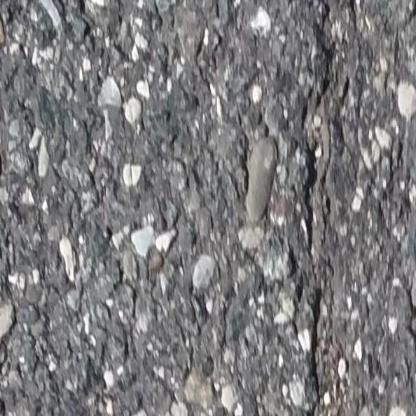Cracks: (299, 0, 376, 416)
